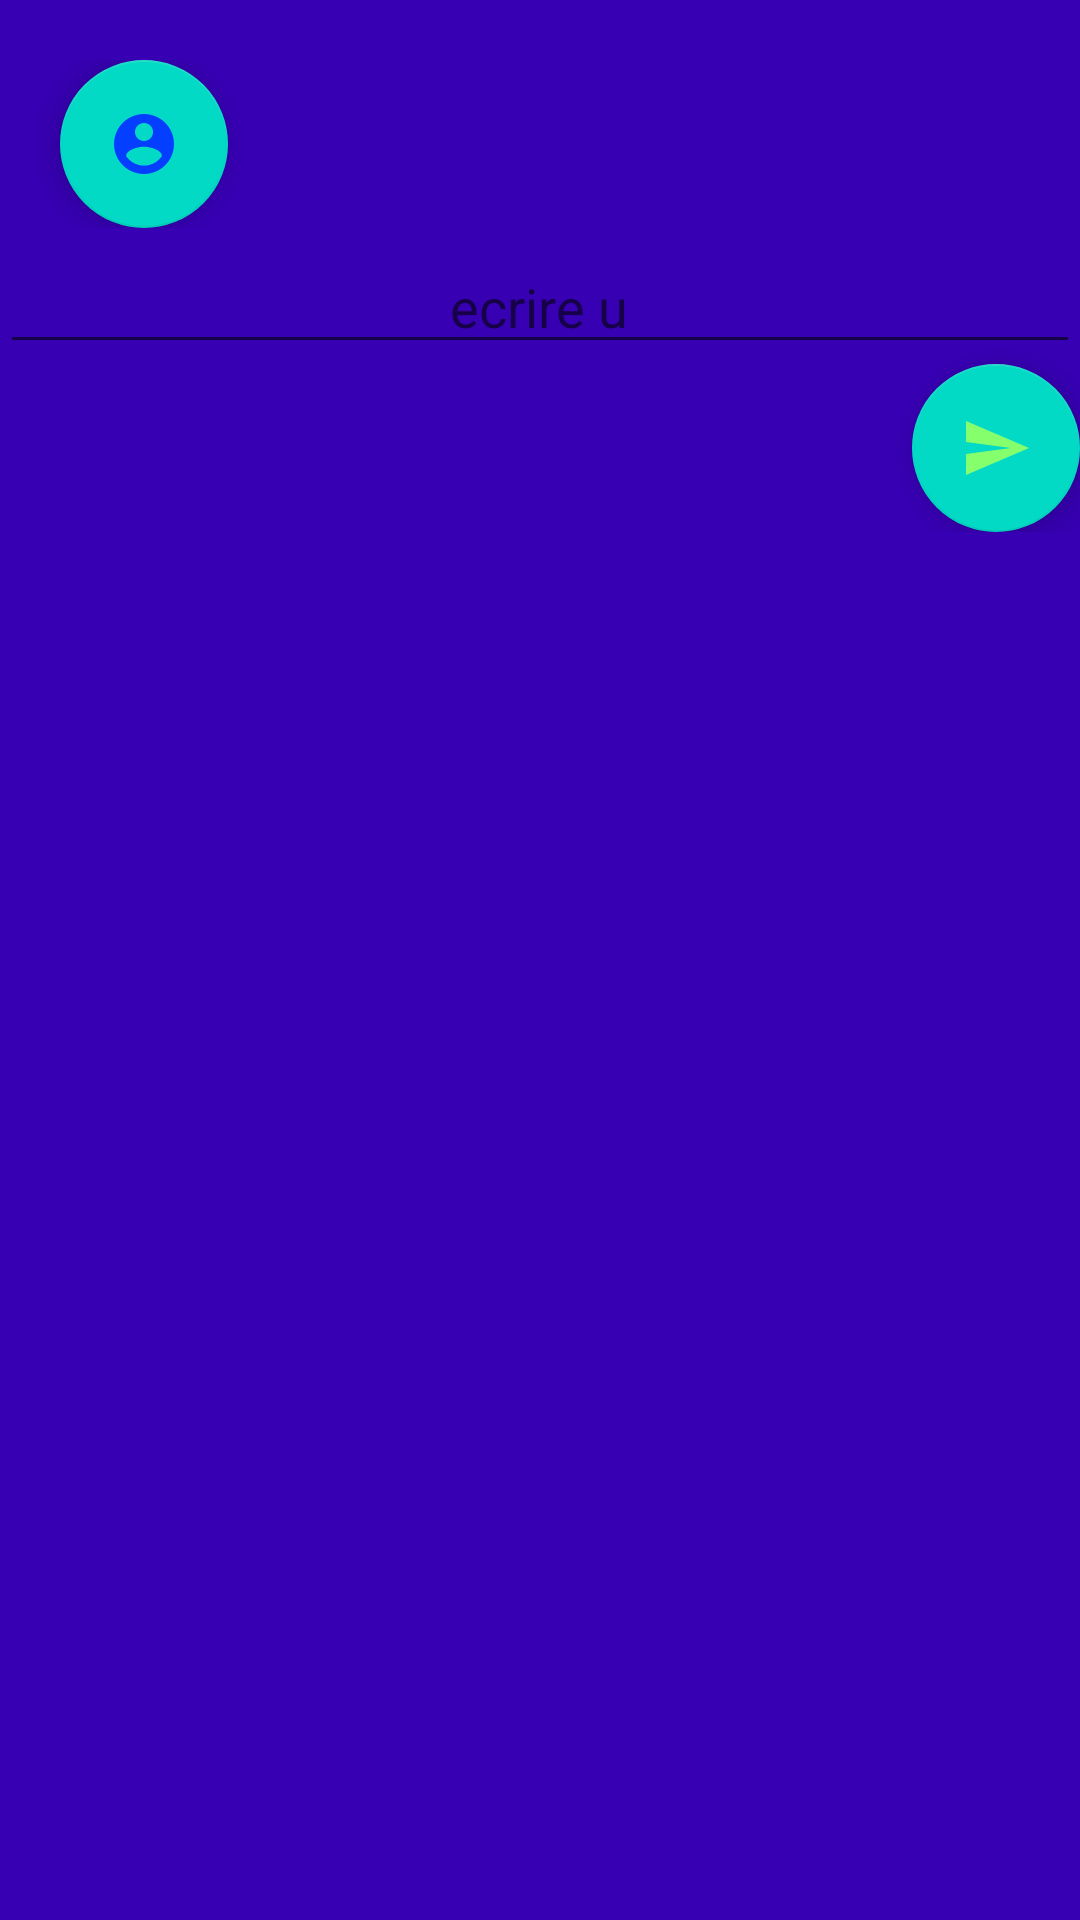

Named icons in this screenshot (1080px×1920px) and their centers, point (x, y):
account circle: point (144, 144)
send: point (996, 448)
